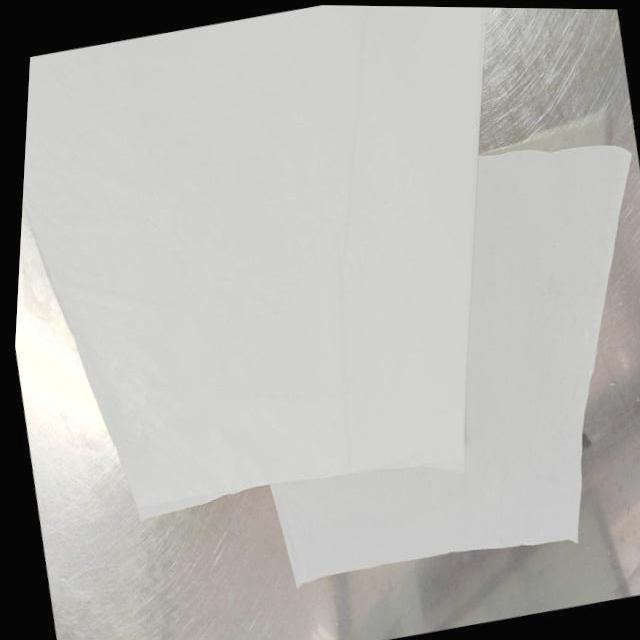General: (13, 4, 639, 639)
